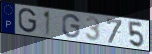1: (42, 10, 53, 37)
3: (84, 15, 102, 43)
5: (126, 21, 146, 49)
7: (106, 18, 123, 44)
G: (17, 7, 38, 34), (61, 14, 81, 40)
